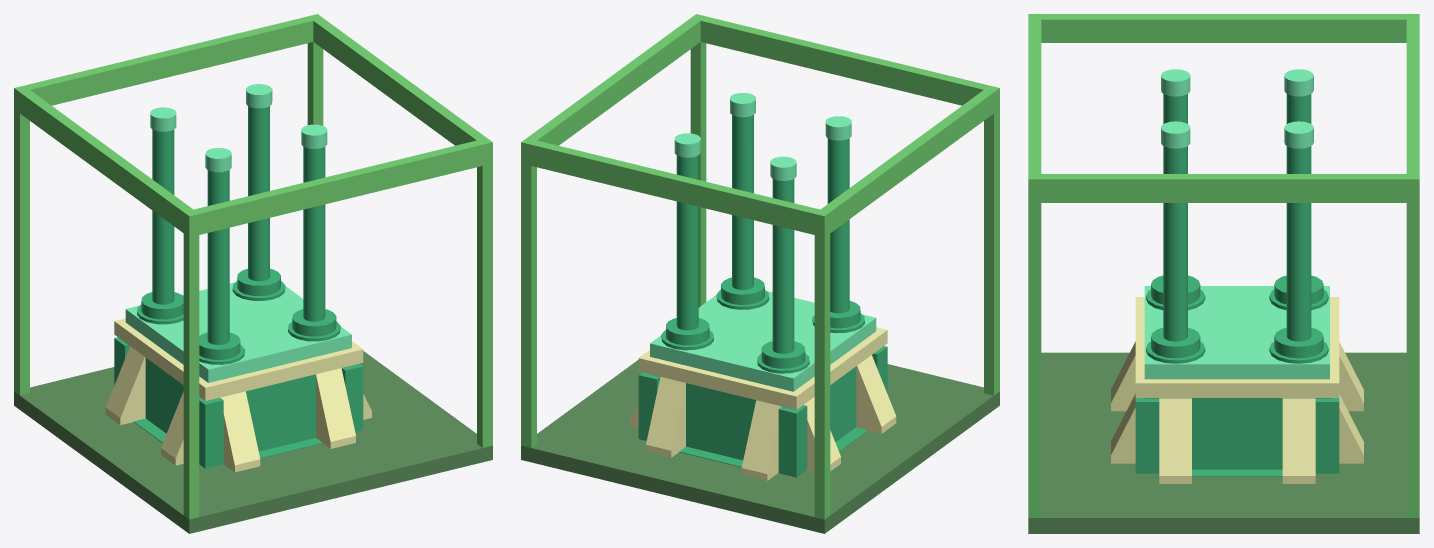
The picture shows the model from 3 angles, left to right: view 1: azimuth 30°, elevation 25°; view 2: azimuth 150°, elevation 25°; view 3: azimuth 270°, elevation 25°; orthographic projection. The views are drawn at different scales.
Visible parts, largest first — view 1: 物件_36, 物件_43, 物件_13, 物件_42, 物件_27, 物件_41, 物件_39, 物件_44, 物件_37, 物件_40, 物件_18, 物件_5 (+18 smaller); view 2: 物件_36, 物件_13, 物件_42, 物件_43, 物件_27, 物件_41, 物件_40, 物件_44, 物件_38, 物件_39, 物件_18, 物件_2 (+18 smaller); view 3: 物件_36, 物件_13, 物件_44, 物件_41, 物件_27, 物件_18, 物件_37, 物件_38, 物件_2, 物件_5, 物件_19, 物件_20 (+21 smaller).
Boxes of the visible parts, box(x1,y1,x2,y2) form: 物件_36: box(14, 351, 492, 533); 物件_43: box(184, 139, 492, 236); 物件_13: box(125, 282, 351, 382); 物件_42: box(14, 14, 321, 112); 物件_27: box(145, 358, 346, 451); 物件_41: box(14, 88, 199, 236); 物件_39: box(183, 209, 199, 519); 物件_44: box(311, 15, 492, 162); 物件_37: box(477, 138, 492, 447); 物件_40: box(14, 88, 29, 395); 物件_18: box(114, 318, 363, 400); 物件_5: box(303, 146, 325, 321); 物件_36: box(521, 360, 999, 533); 物件_13: box(650, 291, 876, 391); 物件_42: box(521, 140, 829, 235); 物件_43: box(691, 14, 998, 105); 物件_27: box(653, 366, 856, 460); 物件_41: box(815, 88, 999, 236); 物件_40: box(814, 209, 830, 519); 物件_44: box(521, 16, 700, 163); 物件_38: box(521, 138, 536, 447); 物件_39: box(984, 87, 999, 395); 物件_18: box(638, 327, 887, 409); 物件_2: box(676, 155, 698, 330); 物件_36: box(1028, 352, 1419, 533); 物件_13: box(1144, 286, 1329, 379); 物件_44: box(1028, 174, 1418, 202); 物件_41: box(1028, 14, 1419, 42); 物件_27: box(1143, 398, 1330, 469); 物件_18: box(1135, 297, 1339, 397); 物件_37: box(1028, 174, 1041, 517); 物件_38: box(1406, 174, 1419, 517); 物件_2: box(1286, 146, 1311, 341); 物件_5: box(1163, 146, 1187, 341); 物件_19: box(1282, 398, 1315, 483); 物件_20: box(1159, 398, 1191, 483).
Size of the model in its own units: 48 by 48 by 48.
